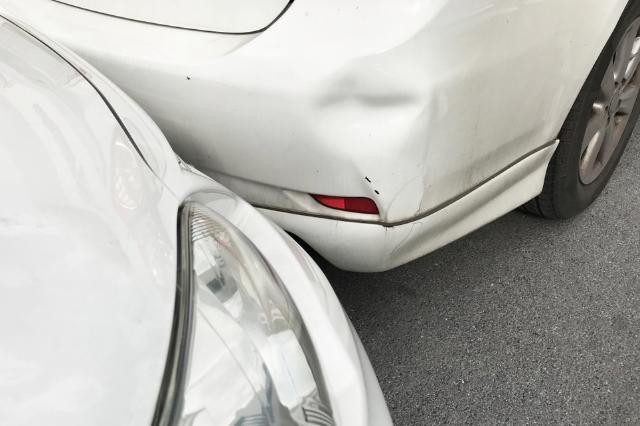Bumper: (289, 61, 454, 224)
